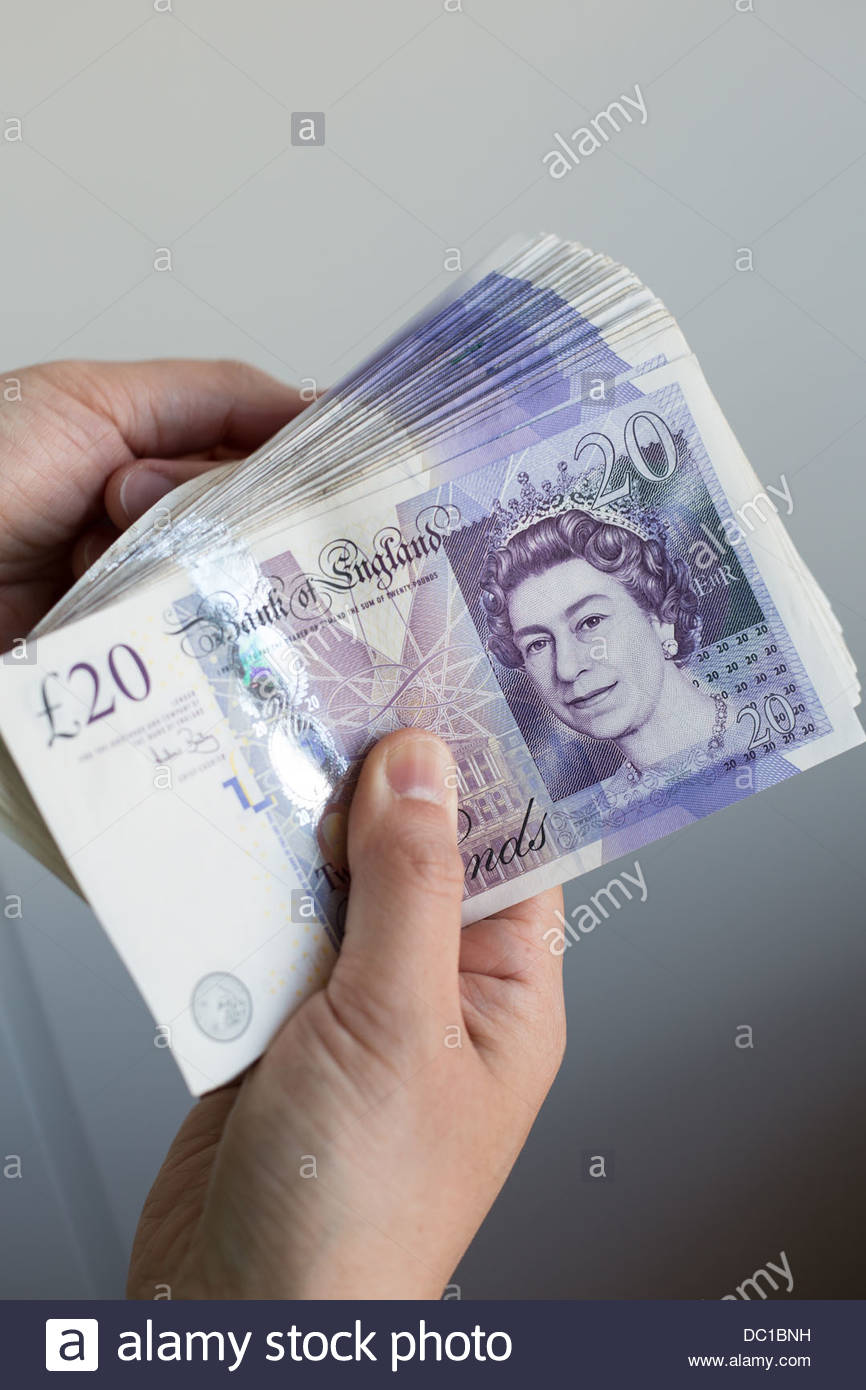billete: (1, 226, 865, 1125)
